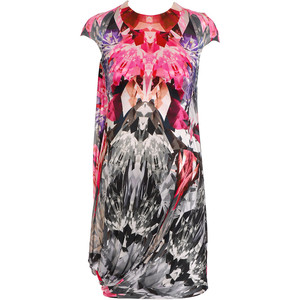C_dress: (61, 1, 220, 299)
C_skirt: (84, 132, 218, 300)
